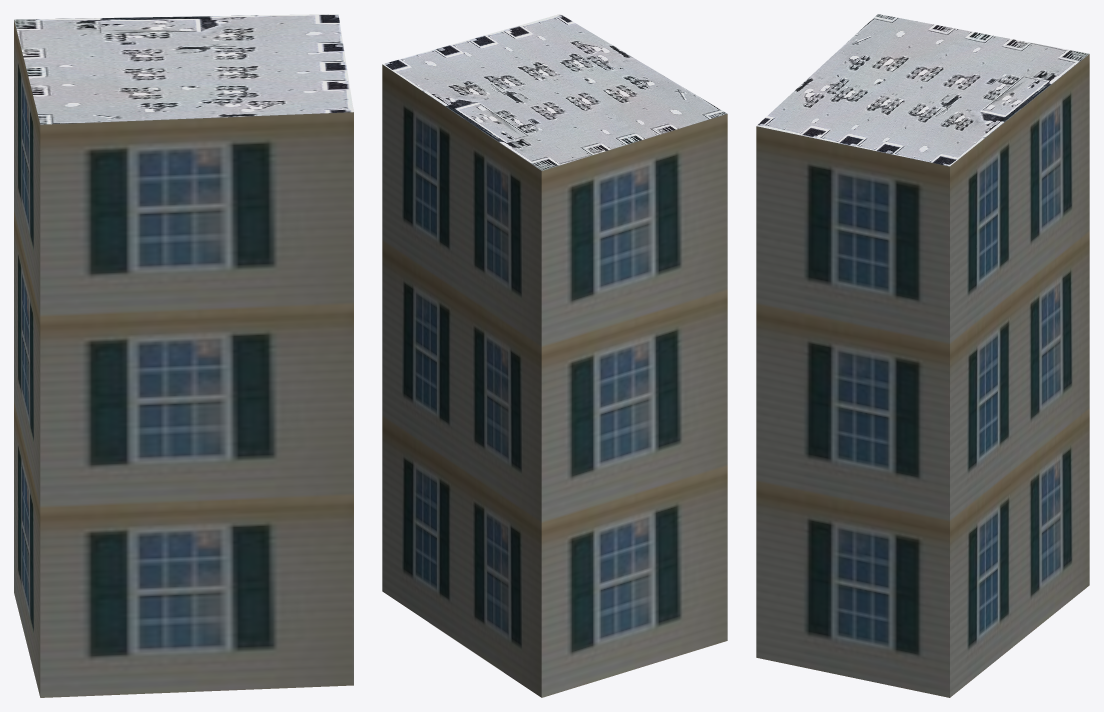
The model's file is ResTex__890.fbx.
3 views of the same model, side by side, from view 1: azimuth 30°, elevation 25°; view 2: azimuth 150°, elevation 25°; view 3: azimuth 270°, elevation 25° (orthographic). The views are drawn at different scales.
Visible parts, largest first — view 1: CityEngineMaterial_7_m, CityEngineMaterial_4_m; view 2: CityEngineMaterial_7_m, CityEngineMaterial_4_m; view 3: CityEngineMaterial_7_m, CityEngineMaterial_4_m.
Part boxes in pixels (bbox=[...]): CityEngineMaterial_7_m: bbox=[14, 20, 353, 697]; CityEngineMaterial_4_m: bbox=[14, 14, 353, 124]; CityEngineMaterial_7_m: bbox=[382, 64, 727, 697]; CityEngineMaterial_4_m: bbox=[382, 14, 727, 170]; CityEngineMaterial_7_m: bbox=[756, 54, 1089, 697]; CityEngineMaterial_4_m: bbox=[756, 14, 1089, 166].
Bounding box in the file's own units: 5.54 × 9 × 5.12.
Materials: 2 (2 with a texture image).
